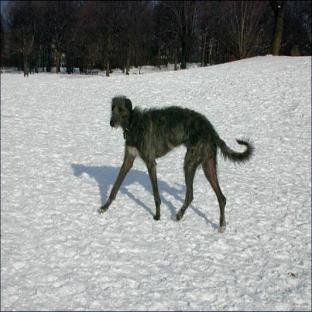Animal: (100, 95, 254, 231)
